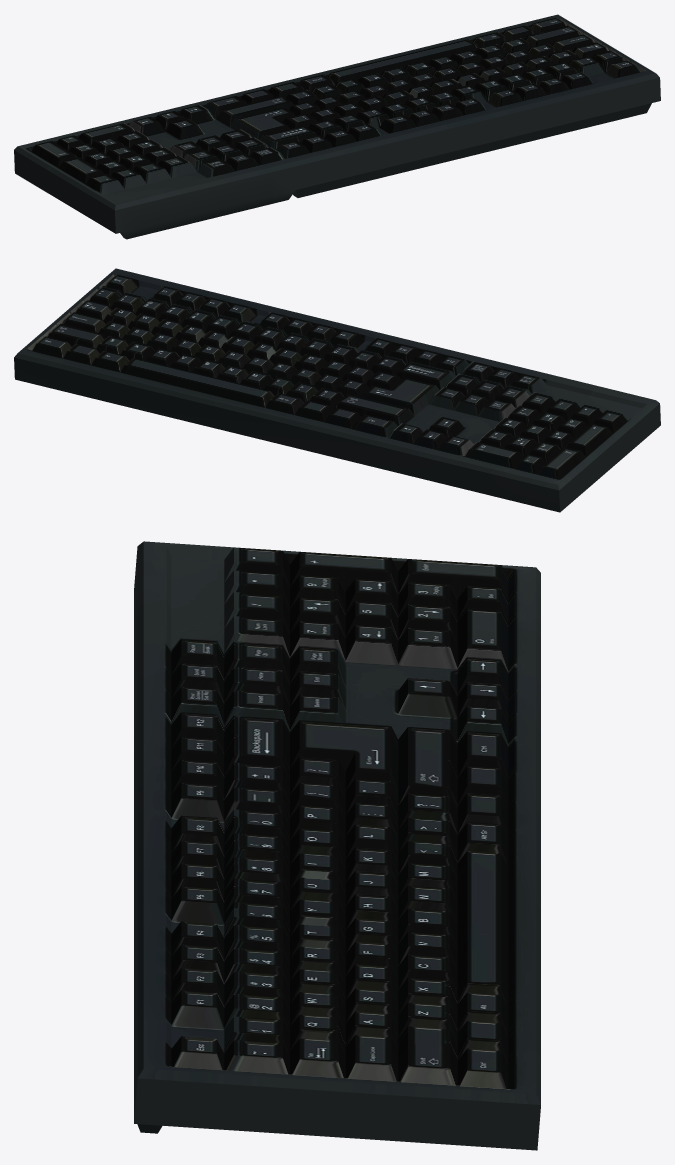
Rendered from Keyboard.fbx.
The picture shows the model from 3 angles, top to bottom: view 1: azimuth 30°, elevation 25°; view 2: azimuth 150°, elevation 25°; view 3: azimuth 270°, elevation 25°; orthographic projection. The views are drawn at different scales.
Visible parts, largest first — view 1: pCube2; view 2: pCube2; view 3: pCube2.
Boxes of the visible parts, x1,y1,x2,y2 form: pCube2: [14, 14, 660, 239]; pCube2: [14, 268, 660, 512]; pCube2: [134, 541, 540, 1150].
Bounding box in the file's own units: 45 × 3.39 × 14.56.
